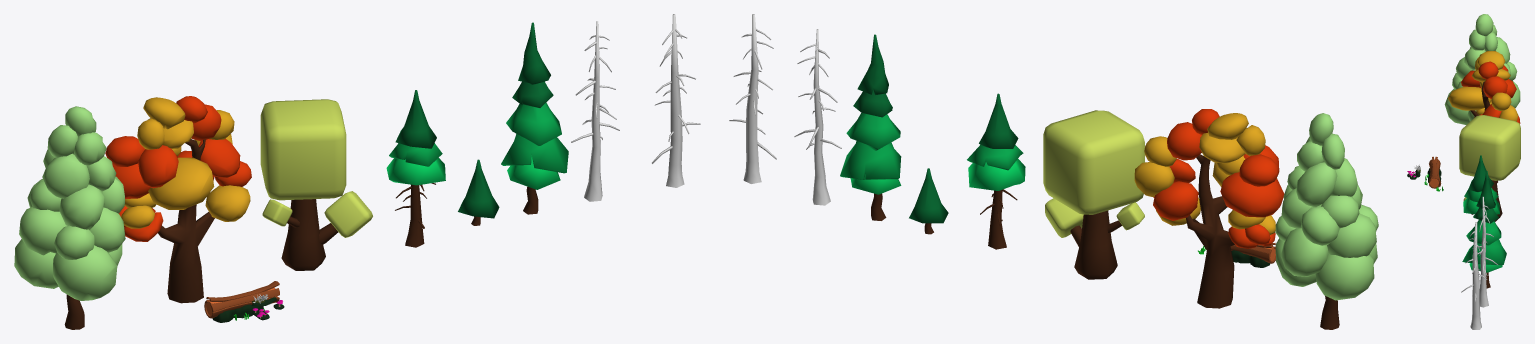
Rendered from TreeSet.fbx.
The picture shows the model from 3 angles, left to right: view 1: azimuth 30°, elevation 25°; view 2: azimuth 150°, elevation 25°; view 3: azimuth 270°, elevation 25°; orthographic projection. The views are drawn at different scales.
Parts seen in each view (by area): view 1: Tree2, Tree1, Tree3, Tree6, Tree4, Tree8, Tree7, Tree5, Wood Chips; view 2: Tree2, Tree1, Tree3, Tree6, Tree4, Tree8, Tree7, Tree5, Wood Chips; view 3: Tree3, Tree2, Tree1, Tree6, Tree4, Tree8, Tree7, Wood Chips, Big Moss.
Boxes of the visible parts, x1,y1,x2,y2 form: Tree2: [105, 96, 251, 303]; Tree1: [14, 106, 125, 329]; Tree3: [260, 99, 372, 270]; Tree6: [501, 22, 568, 214]; Tree4: [386, 90, 445, 247]; Tree8: [652, 14, 700, 187]; Tree7: [571, 21, 619, 201]; Tree5: [458, 159, 499, 225]; Wood Chips: [204, 281, 279, 318]; Tree2: [1134, 109, 1284, 308]; Tree1: [1275, 113, 1378, 329]; Tree3: [1043, 110, 1144, 279]; Tree6: [840, 34, 901, 220]; Tree4: [967, 93, 1025, 249]; Tree8: [729, 14, 776, 183]; Tree7: [794, 29, 841, 205]; Tree5: [909, 168, 948, 234]; Wood Chips: [1230, 243, 1275, 263]; Tree3: [1459, 115, 1520, 221]; Tree2: [1448, 51, 1520, 182]; Tree1: [1444, 14, 1520, 124]; Tree6: [1462, 171, 1506, 288]; Tree4: [1463, 155, 1499, 214]; Tree8: [1461, 222, 1487, 329]; Tree7: [1472, 196, 1497, 307]; Wood Chips: [1428, 156, 1441, 188]; Big Moss: [1424, 168, 1443, 191].
Bounding box in the file's own units: 18.81 × 5.83 × 4.46.
